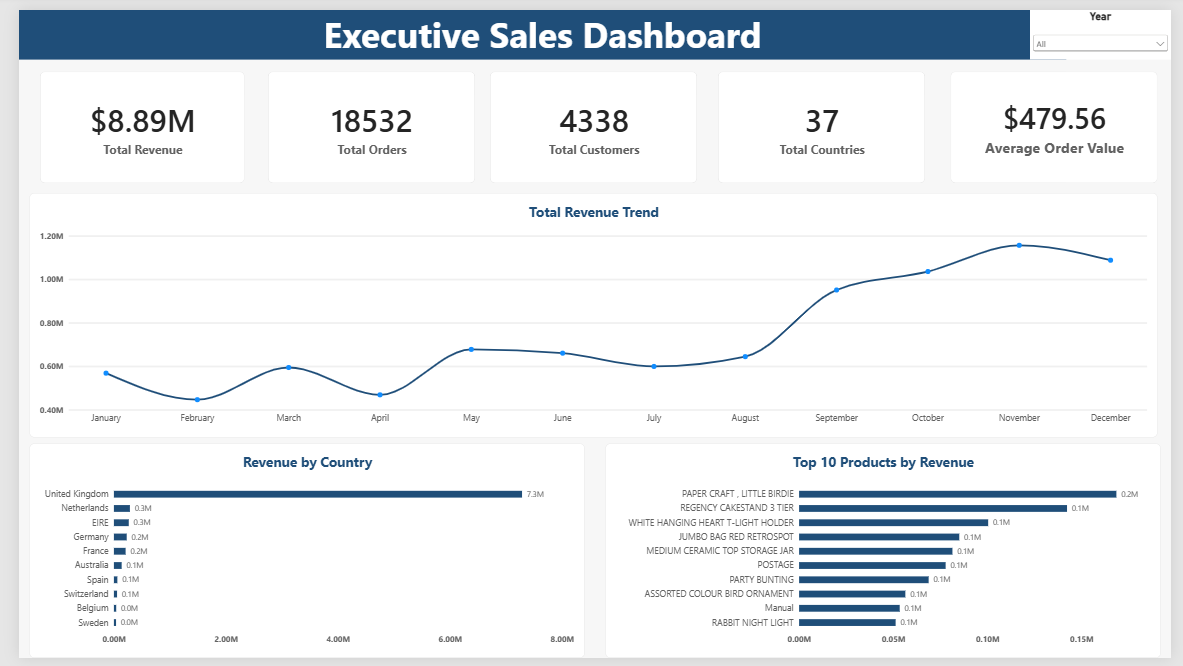

The dashboard page shown, as its layout file describes it:
{"tool":"powerbi","page":{"name":"Page 1","canvas":[1920,1080],"ordinal":0},"visuals":[{"type":"cardVisual","fields":{"Data":["online_retail_final.Average Order Value"]},"box":[1553.2,102.6,345,186.1],"z":0},{"type":"cardVisual","fields":{"Data":["online_retail_final.Total Countries"]},"box":[1164.3,102.6,345,186.1],"z":1000},{"type":"cardVisual","fields":{"Data":["online_retail_final.Total Customers"]},"box":[785,102.6,345,186.1],"z":2000},{"type":"cardVisual","fields":{"Data":["online_retail_final.Total Orders"]},"box":[415.1,102.6,345,186.1],"z":3000},{"type":"cardVisual","fields":{"Data":["online_retail_final.Total Revenue"]},"box":[35.8,102.6,341.2,186.1],"z":4000},{"type":"textbox","box":[0,0,1745,82.5],"z":5000},{"type":"lineChart","title":"Total Revenue Trend","fields":{"Category":["online_retail_final.Month_Name"],"Y":["online_retail_final.Total Revenue"]},"box":[17.5,305,1880,407.5],"z":6000},{"type":"clusteredBarChart","title":"Revenue by Country","fields":{"Category":["online_retail_final.Country"],"Y":["online_retail_final.Total Revenue"]},"box":[17.5,722.5,925,357.5],"z":7000},{"type":"clusteredBarChart","title":"Top 10 Products by Revenue","fields":{"Category":["online_retail_final.Description"],"Y":["online_retail_final.Total Revenue"]},"box":[977.5,722.5,925,357.5],"z":8000},{"type":"slicer","title":"Year","fields":{"Values":["online_retail_final.Year"]},"box":[1685,0,235,82.5],"z":9000}]}

Visuals, with their boxes in screenshot pixels (x1, y1, x2, y2), scaled from the page's 1920x1080 canvas onto the 1183x666 screenshot:
cardVisual - online_retail_final.Average Order Value: x1=957 y1=63 x2=1170 y2=178
cardVisual - online_retail_final.Total Countries: x1=717 y1=63 x2=930 y2=178
cardVisual - online_retail_final.Total Customers: x1=484 y1=63 x2=696 y2=178
cardVisual - online_retail_final.Total Orders: x1=256 y1=63 x2=468 y2=178
cardVisual - online_retail_final.Total Revenue: x1=22 y1=63 x2=232 y2=178
textbox: x1=0 y1=0 x2=1075 y2=51
"Total Revenue Trend" lineChart: x1=11 y1=188 x2=1169 y2=439
"Revenue by Country" clusteredBarChart: x1=11 y1=446 x2=581 y2=665
"Top 10 Products by Revenue" clusteredBarChart: x1=602 y1=446 x2=1172 y2=665
"Year" slicer: x1=1038 y1=0 x2=1182 y2=51
